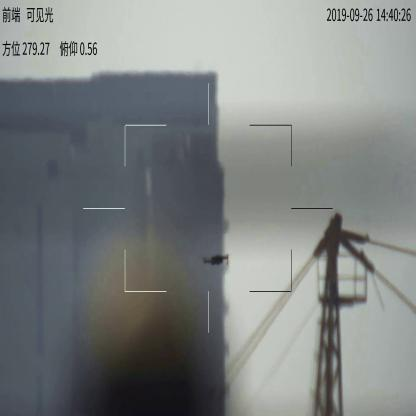uav: (200, 250, 232, 270)
